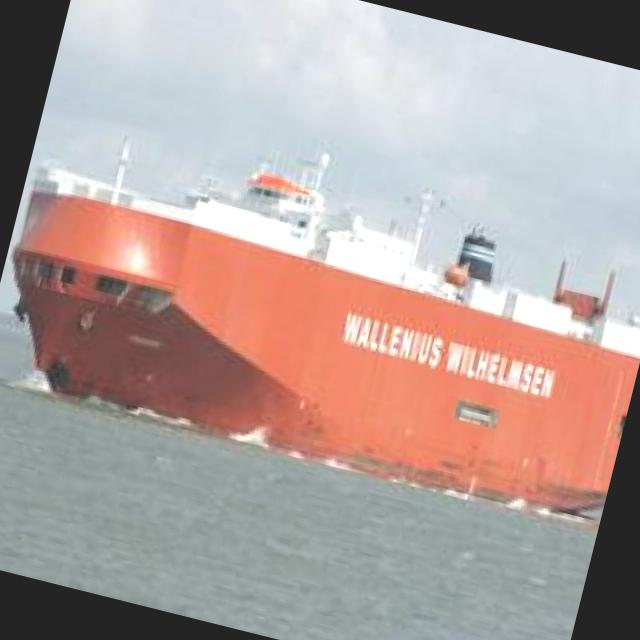ship2: (10, 135, 640, 519)
